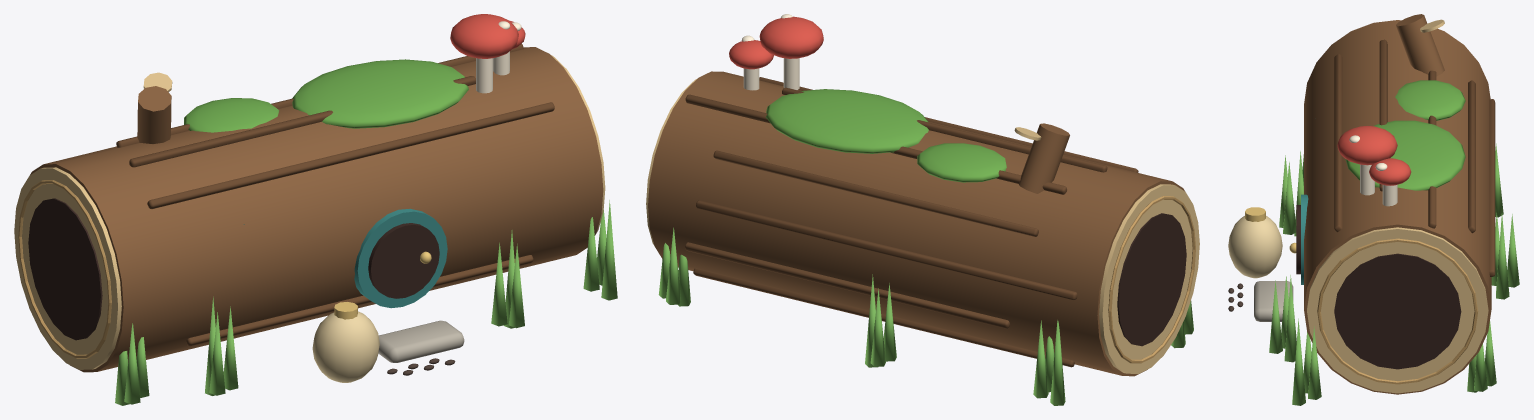
Rendered from hollow-log.glb.
3 renders of one model, left to right at view 1: azimuth 30°, elevation 25°; view 2: azimuth 150°, elevation 25°; view 3: azimuth 270°, elevation 25°, orthographic. The views are drawn at different scales.
Visible parts, largest first — view 1: HOLLOW LOG · log, HOLLOW LOG · moss saddle, HOLLOW LOG · hollow -1, HOLLOW LOG · cut end -1, HOLLOW LOG · bark furrow 4, HOLLOW LOG · door, HOLLOW LOG · seed sack, HOLLOW LOG · door frame, HOLLOW LOG · moss tuft, HOLLOW LOG · door step, HOLLOW LOG · toadstool cap 0, HOLLOW LOG · bark furrow 7 (+14 smaller); view 2: HOLLOW LOG · log, HOLLOW LOG · moss saddle, HOLLOW LOG · hollow -1, HOLLOW LOG · cut end -1, HOLLOW LOG · bark furrow 0, HOLLOW LOG · bark furrow 1, HOLLOW LOG · bark furrow 11, HOLLOW LOG · moss tuft, HOLLOW LOG · bark furrow 10, HOLLOW LOG · toadstool cap 0, HOLLOW LOG · branch stub, HOLLOW LOG · growth ring -1 (+12 smaller); view 3: HOLLOW LOG · log, HOLLOW LOG · hollow 1, HOLLOW LOG · cut end 1, HOLLOW LOG · moss saddle, HOLLOW LOG · seed sack, HOLLOW LOG · moss tuft, HOLLOW LOG · growth ring 1, HOLLOW LOG · toadstool cap 0, HOLLOW LOG · branch stub, HOLLOW LOG · bark furrow 4, HOLLOW LOG · bark furrow 0, HOLLOW LOG · bark furrow 1 (+24 smaller).
Boxes of the visible parts, <box> form: HOLLOW LOG · log: <box>30,47,603,372</box>; HOLLOW LOG · moss saddle: <box>292,59,468,128</box>; HOLLOW LOG · hollow -1: <box>28,198,102,340</box>; HOLLOW LOG · cut end -1: <box>14,167,121,369</box>; HOLLOW LOG · bark furrow 4: <box>147,102,554,208</box>; HOLLOW LOG · door: <box>368,223,439,298</box>; HOLLOW LOG · seed sack: <box>312,311,379,382</box>; HOLLOW LOG · door frame: <box>354,208,447,308</box>; HOLLOW LOG · moss tuft: <box>184,98,279,132</box>; HOLLOW LOG · door step: <box>378,320,464,362</box>; HOLLOW LOG · toadstool cap 0: <box>450,14,518,58</box>; HOLLOW LOG · bark furrow 7: <box>186,255,533,346</box>; HOLLOW LOG · log: <box>648,71,1185,376</box>; HOLLOW LOG · moss saddle: <box>766,89,928,153</box>; HOLLOW LOG · hollow -1: <box>1117,213,1186,346</box>; HOLLOW LOG · cut end -1: <box>1099,184,1199,373</box>; HOLLOW LOG · bark furrow 0: <box>696,200,1077,300</box>; HOLLOW LOG · bark furrow 1: <box>713,150,1038,236</box>; HOLLOW LOG · bark furrow 11: <box>685,242,1010,328</box>; HOLLOW LOG · moss tuft: <box>917,143,1006,182</box>; HOLLOW LOG · bark furrow 10: <box>693,268,1074,367</box>; HOLLOW LOG · toadstool cap 0: <box>759,16,823,58</box>; HOLLOW LOG · branch stub: <box>1018,123,1069,193</box>; HOLLOW LOG · growth ring -1: <box>1108,196,1195,363</box>; HOLLOW LOG · log: <box>1304,20,1491,394</box>; HOLLOW LOG · hollow 1: <box>1334,253,1461,369</box>; HOLLOW LOG · cut end 1: <box>1307,227,1488,393</box>; HOLLOW LOG · moss saddle: <box>1345,120,1465,190</box>; HOLLOW LOG · seed sack: <box>1228,216,1282,278</box>; HOLLOW LOG · moss tuft: <box>1395,80,1465,120</box>; HOLLOW LOG · growth ring 1: <box>1317,238,1478,384</box>; HOLLOW LOG · toadstool cap 0: <box>1337,126,1397,165</box>; HOLLOW LOG · branch stub: <box>1396,14,1444,76</box>; HOLLOW LOG · bark furrow 4: <box>1334,54,1342,232</box>; HOLLOW LOG · bark furrow 0: <box>1489,99,1495,276</box>; HOLLOW LOG · bark furrow 1: <box>1468,80,1475,233</box>.
Size of the model in its own units: 3.32 by 1.72 by 1.93.
